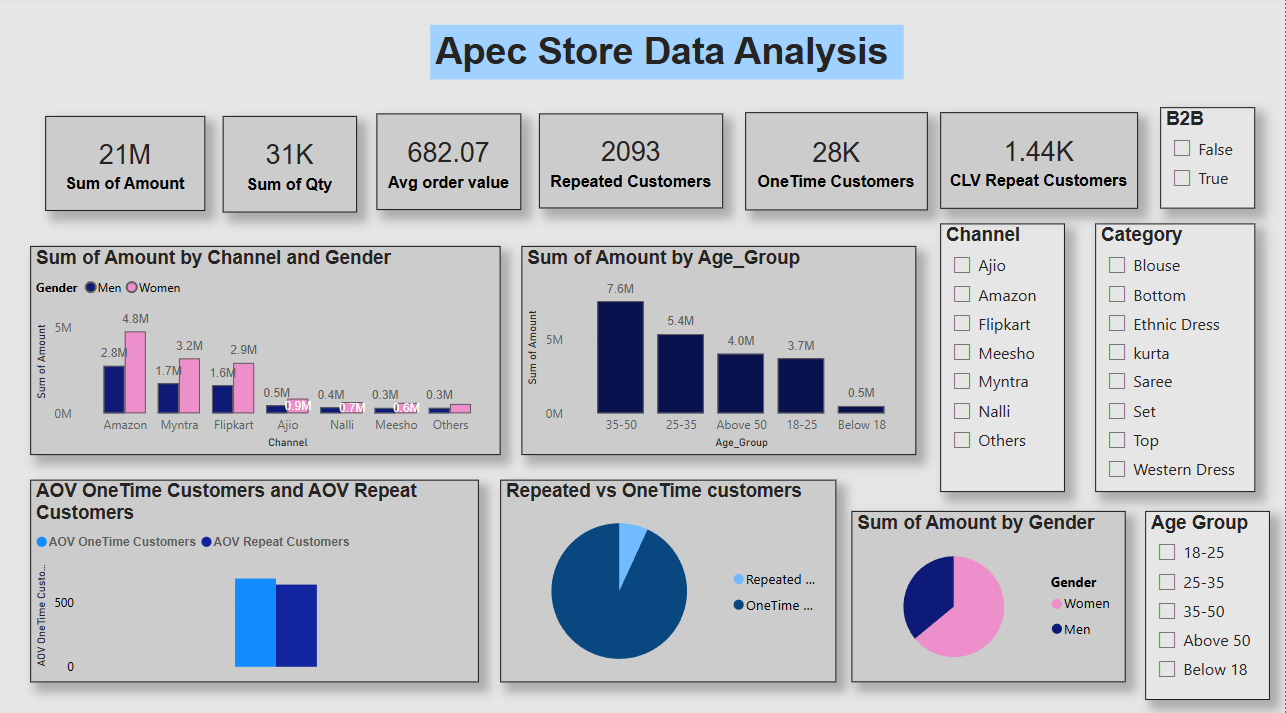

What the dashboard file says about the page in this screenshot:
{"tool":"powerbi","page":{"name":"Customer Overview  and Analysis","canvas":[1280,720],"ordinal":1},"visuals":[{"type":"textbox","box":[429.2,28.6,471.5,54.7],"z":0},{"type":"card","fields":{"Values":["Sum(Apec Stores.Qty)"]},"box":[222.5,119.2,133.5,96.1],"z":1000},{"type":"card","fields":{"Values":["Metrics.Avg order value"]},"box":[375.5,117.5,144.2,96.1],"z":2000},{"type":"card","fields":{"Values":["Metrics.Repeated Customers"]},"box":[537.5,117.5,183.3,94.3],"z":3000},{"type":"card","fields":{"Values":["Metrics.OneTime Customers"]},"box":[742.2,115.7,181.5,97.9],"z":4000},{"type":"card","fields":{"Values":["Sum(Apec Stores.Amount)"]},"box":[46,119.4,159.2,94.5],"z":5000},{"type":"slicer","title":"B2B","fields":{"Values":["Apec Stores.B2B"]},"box":[1155.6,110.7,94.5,100.8],"z":6000},{"type":"slicer","title":"Channel","fields":{"Values":["Apec Stores.Channel "]},"box":[936.7,226.4,124.4,267.5],"z":7000},{"type":"clusteredColumnChart","fields":{"Y":["Sum(Apec Stores.Amount)"],"Category":["Apec Stores.Channel "],"Series":["Apec Stores.Gender"]},"box":[31.1,248.8,467.7,207.7],"z":8000},{"type":"clusteredColumnChart","fields":{"Y":["Metrics.AOV OneTime Customers","Metrics.AOV Repeat Customers"]},"box":[31.1,481.4,446.6,201.5],"z":9000},{"type":"pieChart","title":"Repeated vs OneTime customers","fields":{"Y":["Metrics.Repeat Customers","Metrics.OneTime Customers"]},"box":[498.8,481.4,334.6,201.5],"z":10000},{"type":"pieChart","fields":{"Y":["Sum(Apec Stores.Amount)"],"Category":["Apec Stores.Gender"]},"box":[848.4,512.5,272.4,170.4],"z":11000},{"type":"card","fields":{"Values":["Metrics.CLV_Repeat_Customers"]},"box":[936.7,115.7,196.5,95.8],"z":12000},{"type":"clusteredColumnChart","fields":{"Y":["Sum(Apec Stores.Amount)"],"Category":["Apec Stores.Age_Group"]},"box":[520,248.8,393.1,207.7],"z":13000},{"type":"slicer","title":"Category","fields":{"Values":["Apec Stores.Category"]},"box":[1091,226.4,159.2,267.5],"z":14000},{"type":"slicer","title":"Age Group","fields":{"Values":["Apec Stores.Age_Group"]},"box":[1140.7,512.5,124.4,187.8],"z":15000}]}

Visuals, with their boxes in screenshot pixels (x1, y1, x2, y2), scaled from the page's 1280x720 canvas onto the 1286x713 screenshot:
textbox: crop(431, 28, 905, 82)
card - Sum(Apec Stores.Qty): crop(224, 118, 358, 213)
card - Metrics.Avg order value: crop(377, 116, 522, 212)
card - Metrics.Repeated Customers: crop(540, 116, 724, 210)
card - Metrics.OneTime Customers: crop(746, 115, 928, 212)
card - Sum(Apec Stores.Amount): crop(46, 118, 206, 212)
"B2B" slicer: crop(1161, 110, 1256, 209)
"Channel" slicer: crop(941, 224, 1066, 489)
clusteredColumnChart - Sum(Apec Stores.Amount) x Apec Stores.Channel : crop(31, 246, 501, 452)
clusteredColumnChart - Metrics.AOV OneTime Customers x Metrics.AOV Repeat Customers: crop(31, 477, 480, 676)
"Repeated vs OneTime customers" pieChart: crop(501, 477, 837, 676)
pieChart - Sum(Apec Stores.Amount) x Apec Stores.Gender: crop(852, 508, 1126, 676)
card - Metrics.CLV_Repeat_Customers: crop(941, 115, 1139, 209)
clusteredColumnChart - Sum(Apec Stores.Amount) x Apec Stores.Age_Group: crop(522, 246, 917, 452)
"Category" slicer: crop(1096, 224, 1256, 489)
"Age Group" slicer: crop(1146, 508, 1271, 693)
